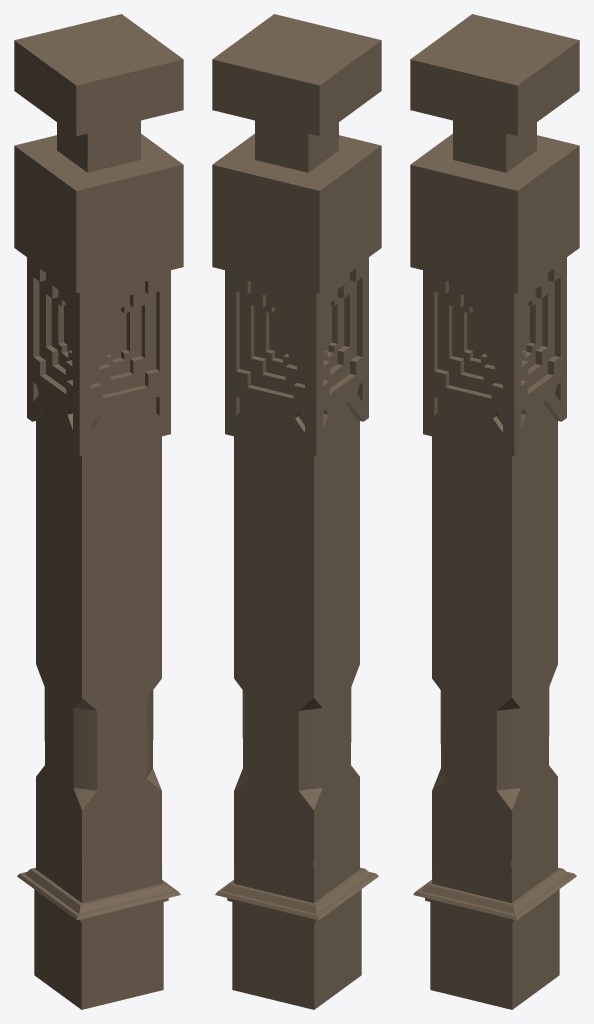
File: collum_low.fbx
3 views of the same model, side by side, from view 1: azimuth 30°, elevation 25°; view 2: azimuth 150°, elevation 25°; view 3: azimuth 330°, elevation 25° (orthographic).
Visible parts, largest first — view 1: collum_vault.001, cap2.002, cap1.001, aqui.001, aqui1.001; view 2: collum_vault.001, cap2.002, cap1.001, aqui.001, aqui1.001; view 3: collum_vault.001, cap2.002, cap1.001, aqui.001, aqui1.001.
Boxes of the visible parts, <box> form: collum_vault.001: <box>17,429,180,1009</box>; cap2.002: <box>27,257,170,462</box>; cap1.001: <box>14,133,183,293</box>; aqui.001: <box>14,14,183,136</box>; aqui1.001: <box>57,120,140,172</box>; collum_vault.001: <box>215,429,378,1009</box>; cap2.002: <box>225,257,368,462</box>; cap1.001: <box>212,134,381,293</box>; aqui.001: <box>212,14,381,136</box>; aqui1.001: <box>255,120,338,172</box>; collum_vault.001: <box>413,429,576,1009</box>; cap2.002: <box>423,257,566,462</box>; cap1.001: <box>410,133,579,293</box>; aqui.001: <box>410,14,579,136</box>; aqui1.001: <box>453,120,536,172</box>.
Bounding box in the file's own units: 277 × 2298 × 277.
